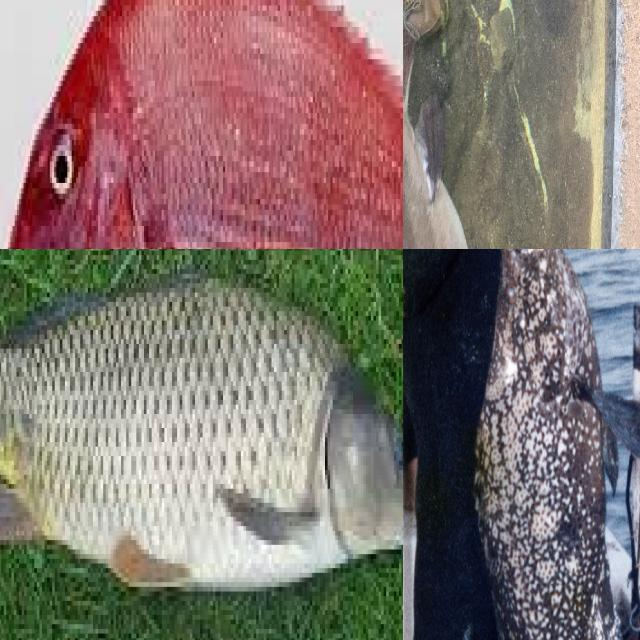fish: (0, 249, 403, 640), (0, 0, 403, 249), (473, 249, 640, 640), (403, 0, 499, 249)
